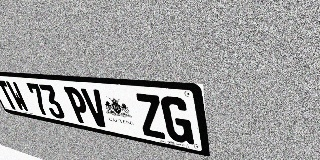3: (38, 84, 66, 120)
7: (25, 83, 52, 117)
G: (160, 95, 194, 145)
P: (63, 86, 93, 125)
T: (0, 80, 19, 110)
V: (80, 88, 111, 129)
W: (5, 81, 31, 113)
Z: (134, 93, 167, 140)
